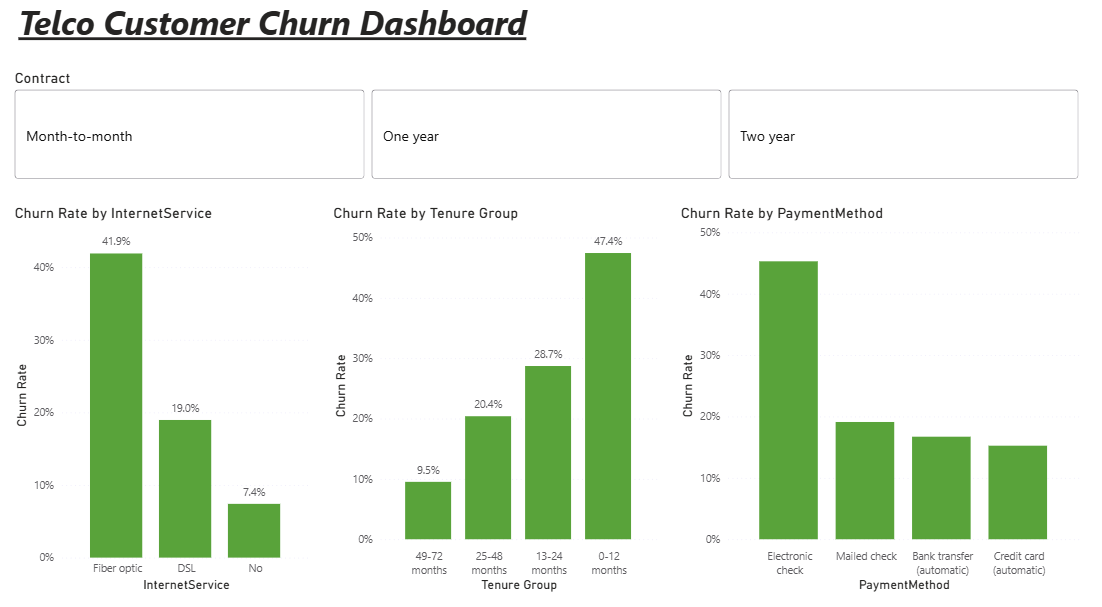

What the dashboard file says about the page in this screenshot:
{"tool":"powerbi","page":{"name":"Churn Drivers","canvas":[1280,720],"ordinal":1},"visuals":[{"type":"clusteredColumnChart","fields":{"Category":["Telco.InternetService"],"Y":["Telco.Churn Rate"]},"box":[12.3,237.4,348.5,448.7],"z":0},{"type":"clusteredColumnChart","fields":{"Category":["Telco.Tenure Group"],"Y":["Telco.Churn Rate"]},"box":[377.4,237.4,380.1,448.7],"z":1000},{"type":"clusteredColumnChart","fields":{"Category":["Telco.PaymentMethod"],"Y":["Telco.Churn Rate"]},"box":[773.9,237.4,466.6,448.7],"z":2000},{"type":"advancedSlicerVisual","fields":{"Values":["Telco.Contract"]},"box":[12.3,82.3,1228.1,131.7],"z":3000},{"type":"textbox","box":[16.5,0,623,68.6],"z":4000}]}

Visuals, with their boxes in screenshot pixels (x1, y1, x2, y2), scaled from the page's 1280x720 canvas onto the 1102x607 screenshot:
clusteredColumnChart - Telco.InternetService x Telco.Churn Rate: x1=11, y1=200, x2=311, y2=578
clusteredColumnChart - Telco.Tenure Group x Telco.Churn Rate: x1=325, y1=200, x2=652, y2=578
clusteredColumnChart - Telco.PaymentMethod x Telco.Churn Rate: x1=666, y1=200, x2=1068, y2=578
advancedSlicerVisual - Telco.Contract: x1=11, y1=69, x2=1068, y2=180
textbox: x1=14, y1=0, x2=551, y2=58
